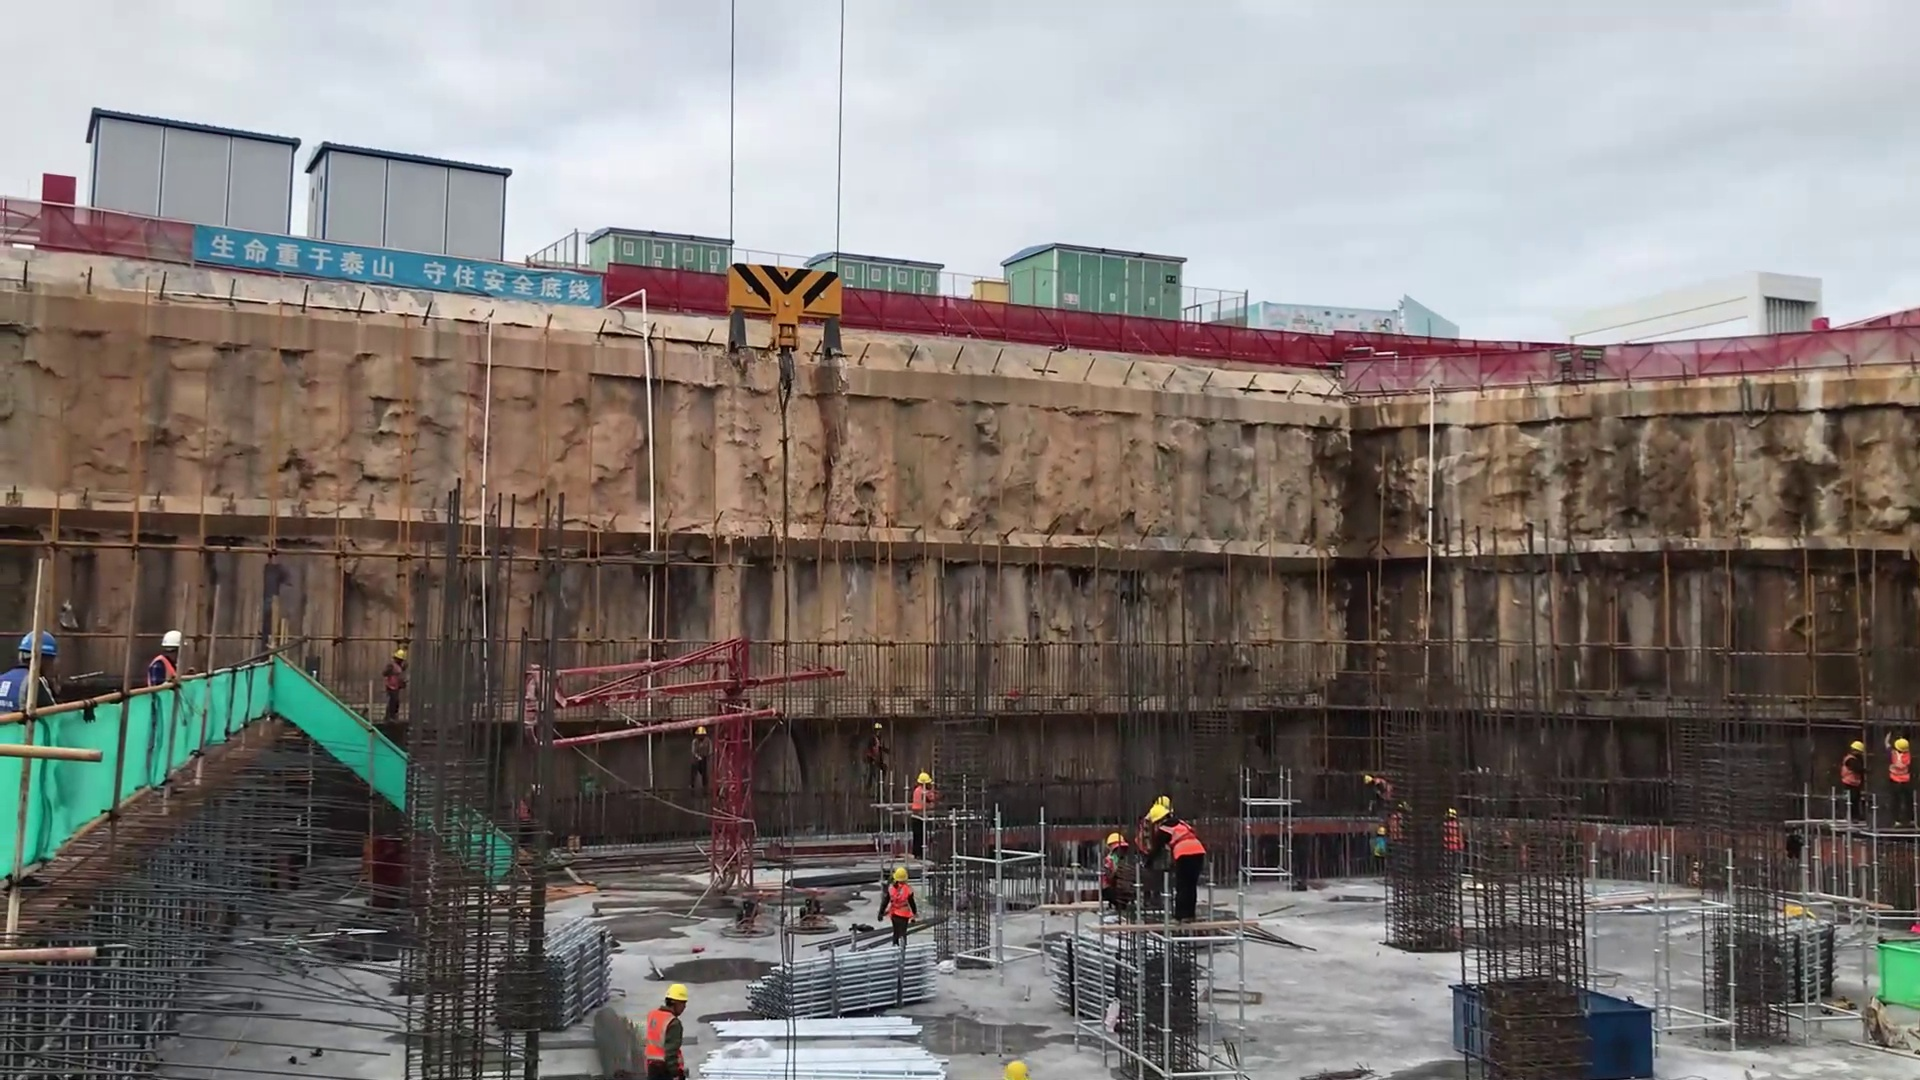helmet: (19, 624, 60, 663), (999, 1055, 1036, 1080), (660, 978, 689, 1007), (1144, 800, 1175, 824), (1889, 734, 1913, 759), (158, 625, 182, 652), (890, 863, 913, 888), (1104, 827, 1125, 853), (389, 644, 410, 666), (1847, 735, 1865, 757), (915, 767, 932, 785)
person: (1142, 799, 1211, 931), (1, 616, 65, 727), (639, 977, 695, 1080), (1092, 827, 1147, 924), (875, 857, 924, 957), (138, 619, 190, 696), (1881, 731, 1917, 834), (1828, 737, 1871, 824), (375, 641, 413, 739), (903, 766, 936, 857)
vest: (643, 1006, 690, 1071), (1, 664, 47, 721), (1160, 812, 1207, 863), (140, 650, 182, 689), (883, 881, 915, 924), (1833, 752, 1864, 788), (903, 778, 931, 816), (1885, 752, 1914, 787), (381, 662, 407, 696)
